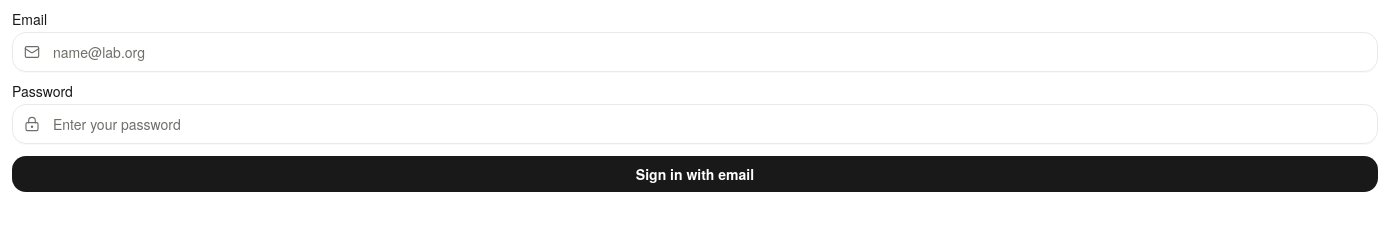
Scenario: EmailSignInForm › shows an error and re-enables submit when sign-in returns an error result
In the field labelled "Email": (695, 52) [12,32,1378,72], type "owner@example.com"
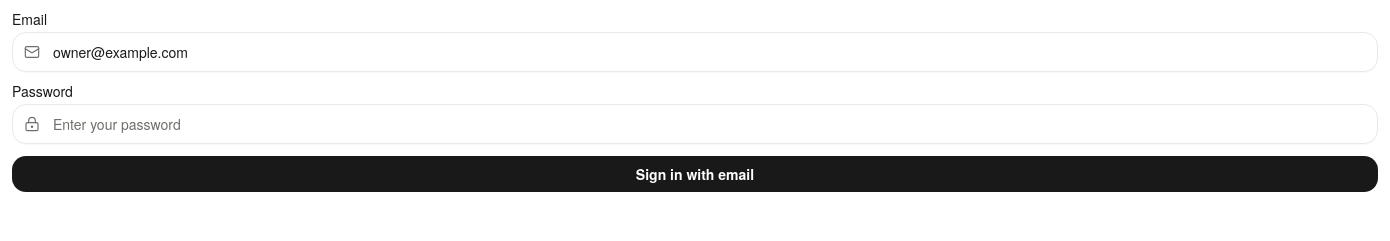
In the password field labelled "Password": (695, 124) [12,104,1378,144], type "wrong-password"
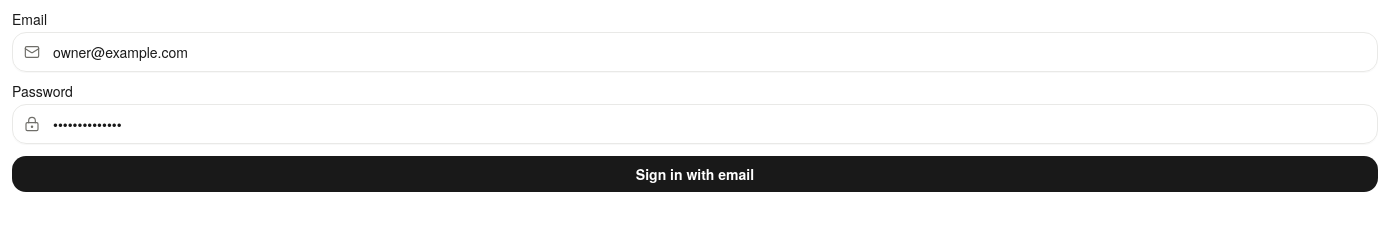
Click the button "Sign in with email": (695, 174) [12,156,1378,192]
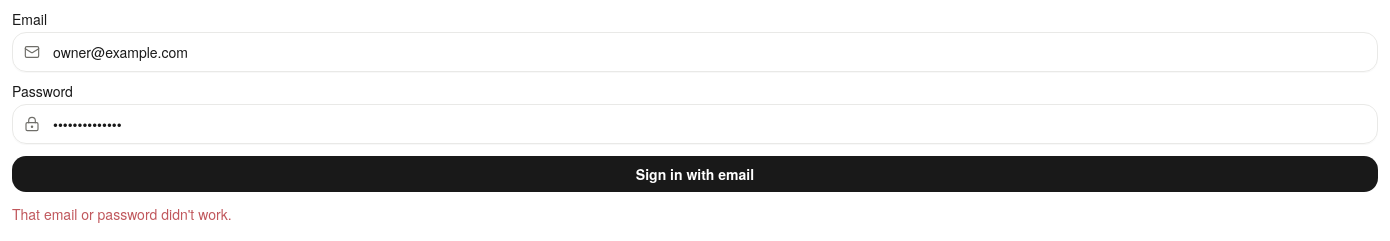
Expected: the message reads "That email or password didn't work.", [12,204,232,224]
